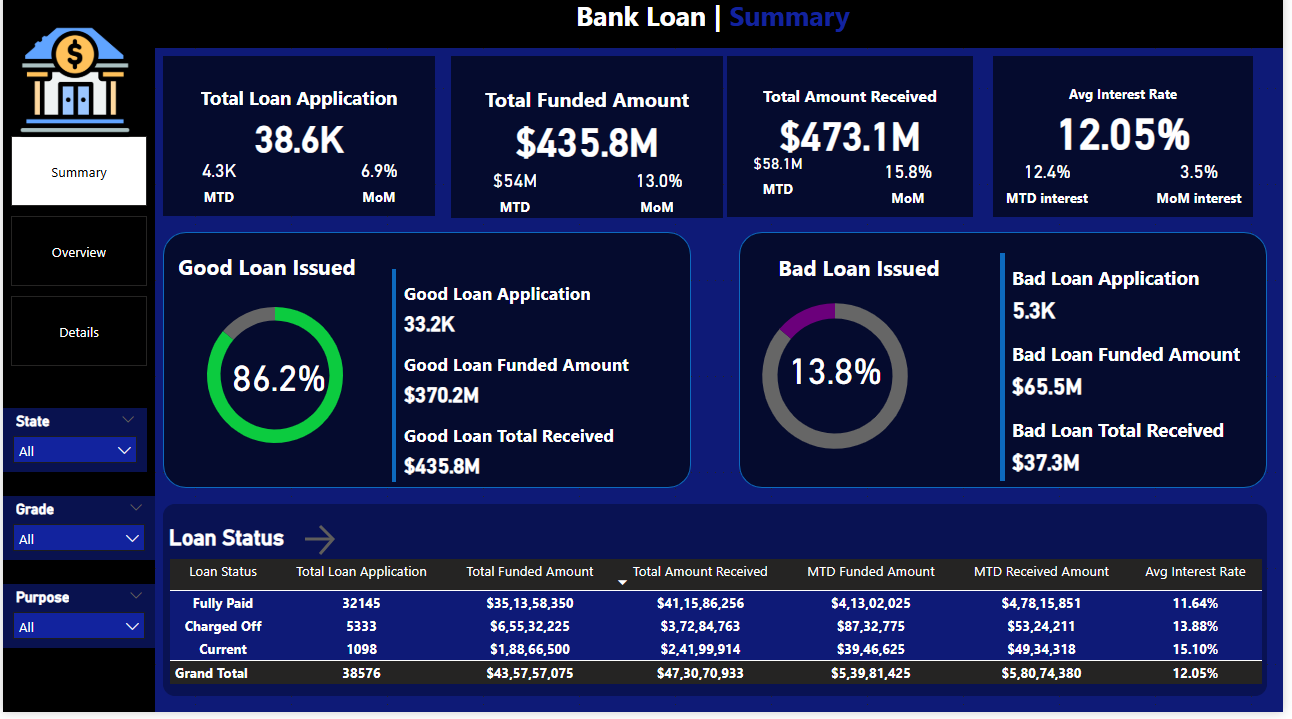

The page's visual inventory and layout, read from the dashboard file:
{"tool":"powerbi","page":{"name":"Summary","canvas":[1280,720],"ordinal":0},"visuals":[{"type":"shape","box":[0,48,152,672],"z":0,"group":"g10"},{"type":"cardVisual","fields":{"Data":["financial_loan.Total Loan Application"]},"box":[160,64,272,160],"z":0,"group":"g4"},{"type":"cardVisual","fields":{"Data":["financial_loan.Toal Funded Amount"]},"box":[448,64,272,162.5],"z":0,"group":"g5"},{"type":"cardVisual","fields":{"Data":["financial_loan.Total Amount Received"]},"box":[724.2,64,246.1,161.3],"z":0,"group":"g3"},{"type":"cardVisual","fields":{"Data":["financial_loan.Avg Interest Rate"]},"box":[990.5,64,259,161.3],"z":0,"group":"g6"},{"type":"shape","box":[160,240,528,256],"z":0,"group":"g8"},{"type":"shape","box":[736,240,528,256],"z":0},{"type":"card","fields":{"Values":["financial_loan.good loan %"]},"box":[0,40,576,112],"z":1000},{"type":"card","fields":{"Values":["financial_loan.MTD received"]},"box":[688,137.3,173.7,88],"z":1000,"group":"g3"},{"type":"card","fields":{"Values":["financial_loan.MTD Loan Application"]},"box":[128,151.3,176,72.7],"z":1000,"group":"g4"},{"type":"card","fields":{"Values":["financial_loan.MTD interest"]},"box":[960,152,167.6,73.3],"z":1000,"group":"g6"},{"type":"card","fields":{"Values":["financial_loan.MTD fund"]},"box":[416,152.6,192,88.6],"z":1000,"group":"g5"},{"type":"donutChart","title":" Good vs Bad","fields":{"Category":["financial_loan.Good vs Bad"],"Y":["financial_loan.Total Loan Application"]},"box":[144,292.7,256,180.7],"z":1000,"group":"g8"},{"type":"card","fields":{"Values":["financial_loan.bad loan %"]},"box":[544,320,576,112],"z":1000,"group":"g9"},{"type":"slicer","fields":{"Values":["financial_loan.address_state"]},"box":[0,416,144,64],"z":1000,"group":"g10"},{"type":"shape","box":[0,0,1280,56],"z":2000,"group":"g11"},{"type":"group","id":"g1","title":"Group 1","box":[128,64,336,160],"z":2000},{"type":"card","fields":{"Values":["financial_loan.MoM received"]},"box":[818.3,137.3,173.7,102.7],"z":2000,"group":"g3"},{"type":"card","fields":{"Values":["financial_loan.MoM fund"]},"box":[560,137.8,192,118.2],"z":2000,"group":"g5"},{"type":"card","fields":{"Values":["financial_loan.MoM Loan Application"]},"box":[288,151.3,176,72.7],"z":2000,"group":"g4"},{"type":"card","fields":{"Values":["financial_loan.MoM interest"]},"box":[1112.4,152,167.6,73.3],"z":2000,"group":"g6"},{"type":"slicer","fields":{"Values":["financial_loan.grade"]},"box":[0,504,152,64],"z":2000,"group":"g10"},{"type":"group","id":"g2","title":"Group 1","box":[416,64,336,192],"z":3000},{"type":"card","fields":{"Values":["financial_loan.good loan %"]},"box":[0,330.4,552,105.4],"z":3000,"group":"g8"},{"type":"slicer","fields":{"Values":["financial_loan.purpose"]},"box":[0,592,152,64],"z":3000,"group":"g10"},{"type":"group","id":"g3","title":"Group 1","box":[688,64,304,176],"z":4000},{"type":"group","id":"g4","title":"Group 3","box":[128,64,336,160],"z":4002,"group":"g1"},{"type":"group","id":"g5","title":"Group 2","box":[416,64,336,192],"z":4002,"group":"g2"},{"type":"group","id":"g6","title":"Group 3","box":[960,64,320,161.3],"z":4002,"group":"g7"},{"type":"textbox","box":[568,0,712,48],"z":5000,"group":"g11"},{"type":"group","id":"g7","title":"Group 1","box":[960,64,320,176],"z":5000},{"type":"group","id":"g8","title":"Group 4","box":[0,240,992,256],"z":6000},{"type":"tableEx","title":"Loan Status","fields":{"Values":["financial_loan.loan_status","financial_loan.Total Loan Application","financial_loan.Total Funded Amount","financial_loan.Total Amount Received","financial_loan.MTD fund","financial_loan.MTD received","financial_loan.Avg Interest Rate"]},"box":[160,512,1104,192],"z":7000},{"type":"cardVisual","fields":{"Data":["financial_loan.good loan application","financial_loan.good loan Funded Amount","financial_loan.good loan Received"]},"box":[384,272,304,224],"z":8000},{"type":"group","id":"g9","title":"Group 5","box":[544,256,720,240],"z":9000},{"type":"group","id":"g10","title":"Group 6","box":[0,48,152,672],"z":10000},{"type":"donutChart","fields":{"Y":["financial_loan.Total Loan Application"],"Category":["financial_loan.Good vs Bad"]},"box":[736,272,192,224],"z":10000,"group":"g9"},{"type":"group","id":"g11","title":"Group 7","box":[0,0,1280,56],"z":11000},{"type":"actionButton","box":[296,528,104,40],"z":11001},{"type":"pageNavigator","box":[8,144,136,232],"z":11002},{"type":"image","box":[0,24,144,128],"z":11003},{"type":"textbox","box":[720,256,272,64],"z":12001,"group":"g9"},{"type":"textbox","box":[160,255.1,208,45.2],"z":13000,"group":"g8"},{"type":"cardVisual","fields":{"Data":["financial_loan.Bad Loan Application","financial_loan.Bad Loan Funded Amount","financial_loan.Bad Loan Total Received"]},"box":[992,256,272,240],"z":15001,"group":"g9"}]}

Visuals, with their boxes on the page's 1280x720 design canvas (x1, y1, x2, y2). These are canvas units, not pixel positions in the 1292x719 screenshot, which may show the page scaled, cropped or inside an application window:
shape: <region>0, 48, 152, 720</region>
cardVisual - financial_loan.Total Loan Application: <region>160, 64, 432, 224</region>
cardVisual - financial_loan.Toal Funded Amount: <region>448, 64, 720, 226</region>
cardVisual - financial_loan.Total Amount Received: <region>724, 64, 970, 225</region>
cardVisual - financial_loan.Avg Interest Rate: <region>990, 64, 1250, 225</region>
shape: <region>160, 240, 688, 496</region>
shape: <region>736, 240, 1264, 496</region>
card - financial_loan.good loan %: <region>0, 40, 576, 152</region>
card - financial_loan.MTD received: <region>688, 137, 862, 225</region>
card - financial_loan.MTD Loan Application: <region>128, 151, 304, 224</region>
card - financial_loan.MTD interest: <region>960, 152, 1128, 225</region>
card - financial_loan.MTD fund: <region>416, 153, 608, 241</region>
" Good vs Bad" donutChart: <region>144, 293, 400, 473</region>
card - financial_loan.bad loan %: <region>544, 320, 1120, 432</region>
slicer - financial_loan.address_state: <region>0, 416, 144, 480</region>
shape: <region>0, 0, 1280, 56</region>
"Group 1" group: <region>128, 64, 464, 224</region>
card - financial_loan.MoM received: <region>818, 137, 992, 240</region>
card - financial_loan.MoM fund: <region>560, 138, 752, 256</region>
card - financial_loan.MoM Loan Application: <region>288, 151, 464, 224</region>
card - financial_loan.MoM interest: <region>1112, 152, 1280, 225</region>
slicer - financial_loan.grade: <region>0, 504, 152, 568</region>
"Group 1" group: <region>416, 64, 752, 256</region>
card - financial_loan.good loan %: <region>0, 330, 552, 436</region>
slicer - financial_loan.purpose: <region>0, 592, 152, 656</region>
"Group 1" group: <region>688, 64, 992, 240</region>
"Group 3" group: <region>128, 64, 464, 224</region>
"Group 2" group: <region>416, 64, 752, 256</region>
"Group 3" group: <region>960, 64, 1280, 225</region>
textbox: <region>568, 0, 1280, 48</region>
"Group 1" group: <region>960, 64, 1280, 240</region>
"Group 4" group: <region>0, 240, 992, 496</region>
"Loan Status" tableEx: <region>160, 512, 1264, 704</region>
cardVisual - financial_loan.good loan application x financial_loan.good loan Funded Amount: <region>384, 272, 688, 496</region>
"Group 5" group: <region>544, 256, 1264, 496</region>
"Group 6" group: <region>0, 48, 152, 720</region>
donutChart - financial_loan.Total Loan Application x financial_loan.Good vs Bad: <region>736, 272, 928, 496</region>
"Group 7" group: <region>0, 0, 1280, 56</region>
actionButton: <region>296, 528, 400, 568</region>
pageNavigator: <region>8, 144, 144, 376</region>
image: <region>0, 24, 144, 152</region>
textbox: <region>720, 256, 992, 320</region>
textbox: <region>160, 255, 368, 300</region>
cardVisual - financial_loan.Bad Loan Application x financial_loan.Bad Loan Funded Amount: <region>992, 256, 1264, 496</region>
